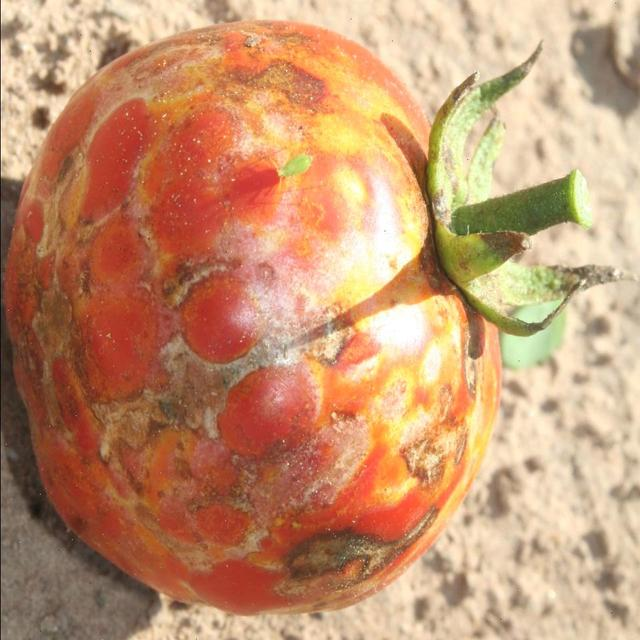Spotted wilt Virus Fruit: (0, 77, 4, 331)
